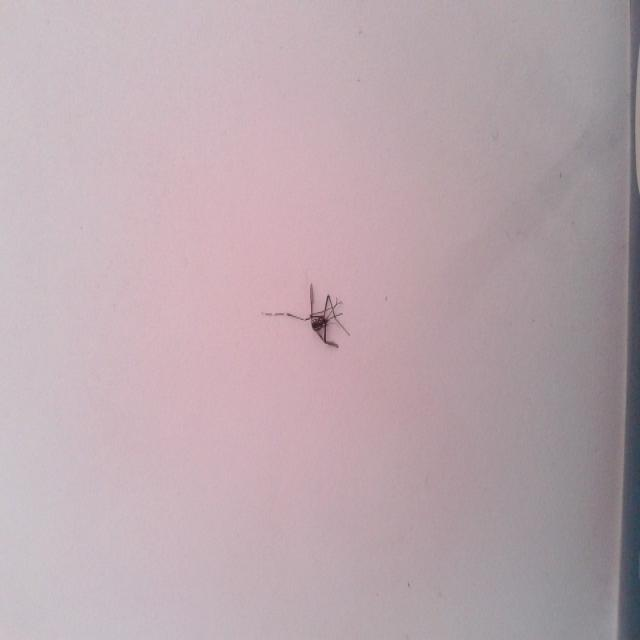albopictus: (262, 272, 356, 353)
